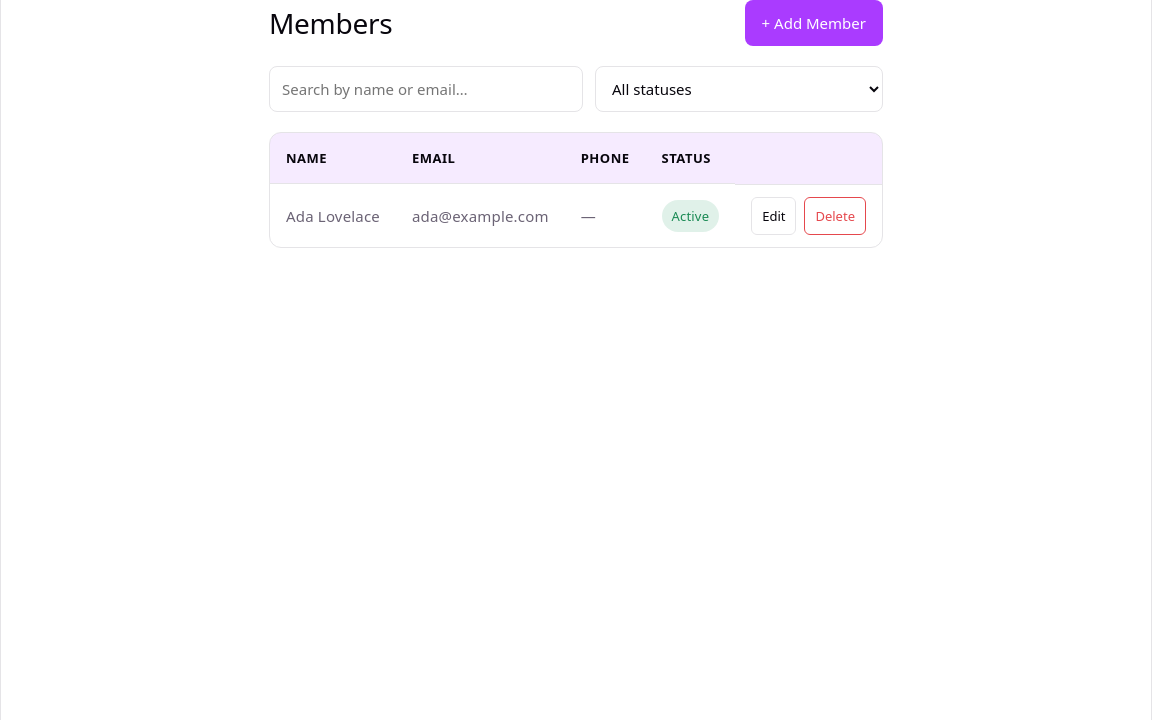
MembersPage › edits a member and refreshes the row
Expected: the text "Ada Lovelace" is shown, [270, 184, 396, 247]
Click the button "Edit". click: click(774, 216)
box: [751, 197, 796, 235]
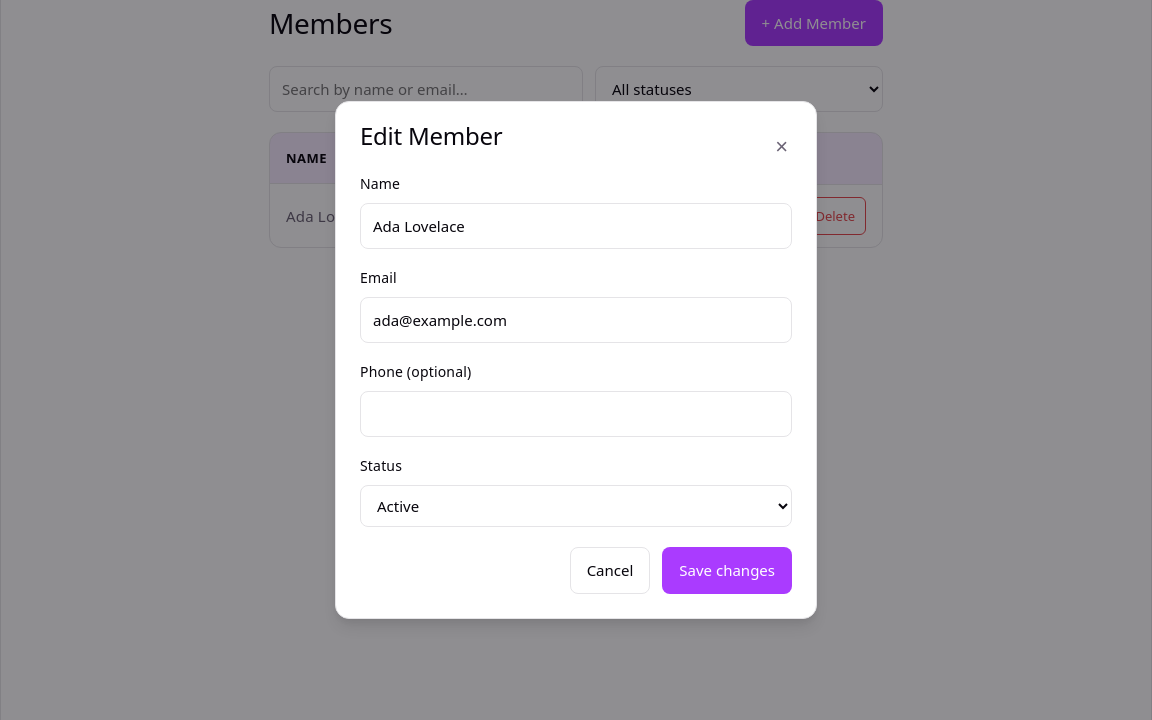
Replace the text in the field labelled "Name" with "Ada Byron". click: (576, 226)
box: [360, 203, 792, 249]
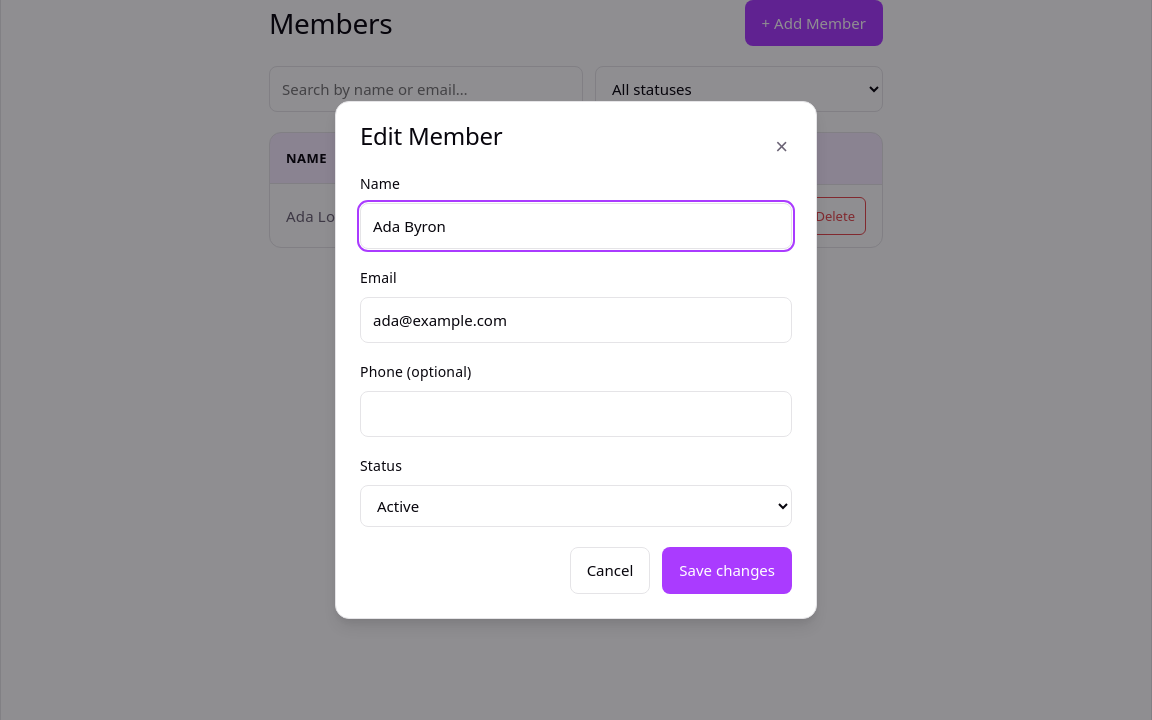
Click the button "Save changes". click: click(727, 570)
box: [662, 547, 792, 594]
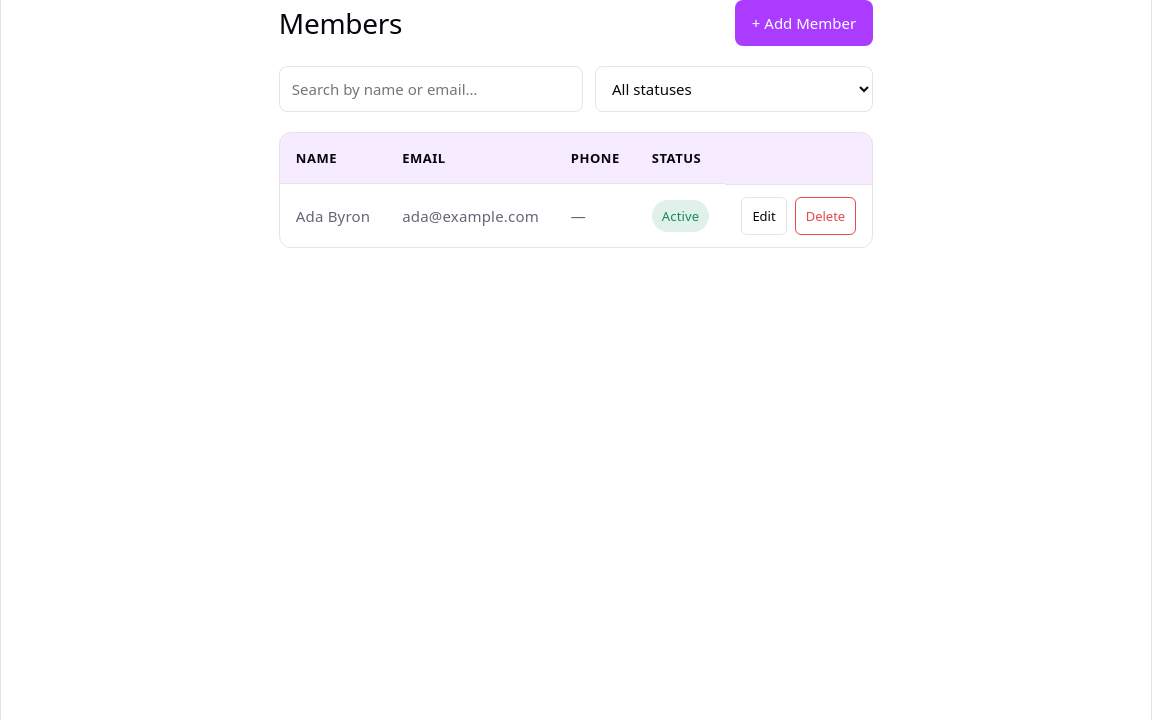
Expected: the heading "Edit Member" is gone
Expected: the text "Ada Byron" is shown, [280, 184, 386, 247]
